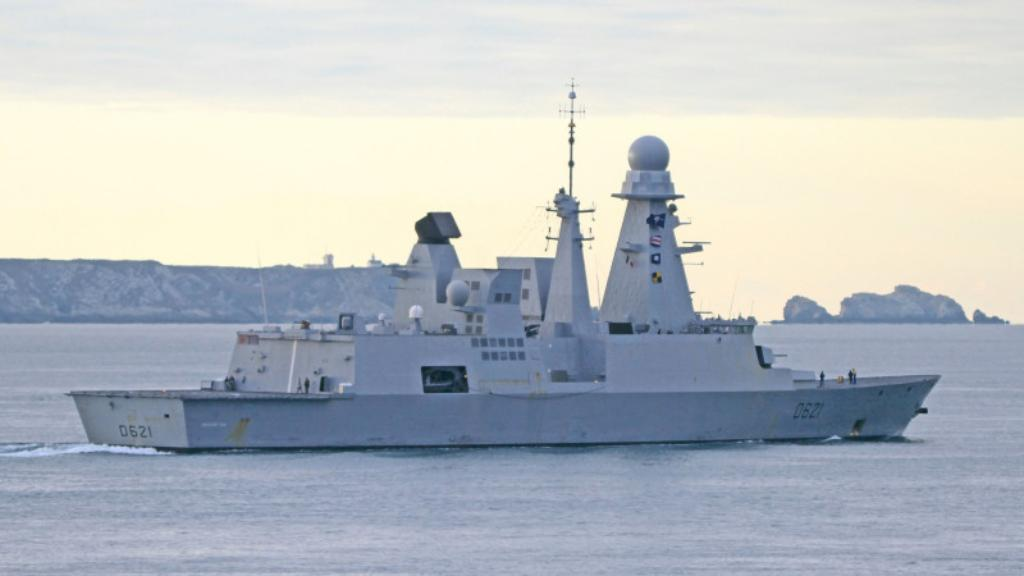Warship: (68, 76, 944, 454)
